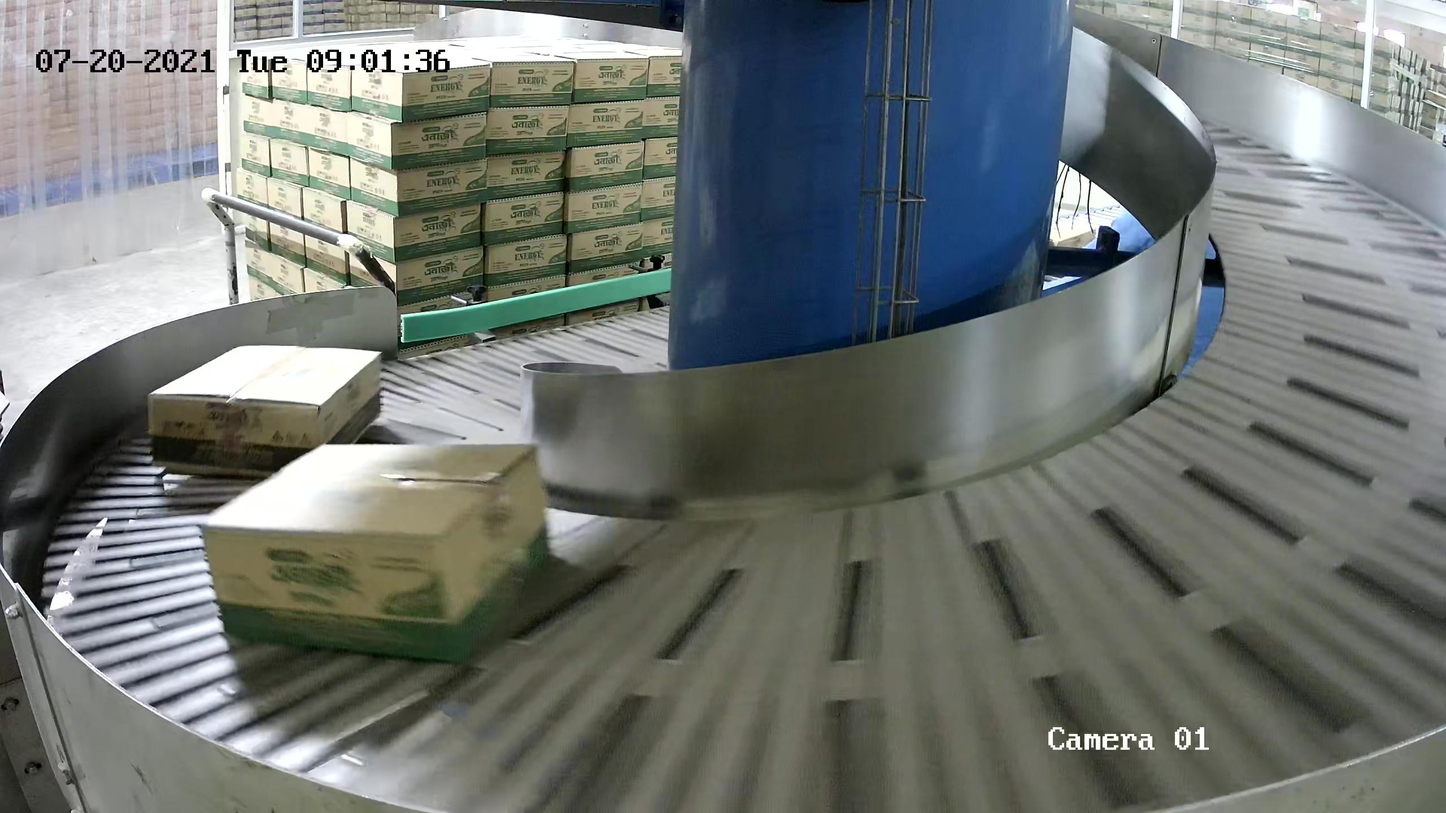Box: (198, 440, 552, 664), (145, 343, 383, 478)
